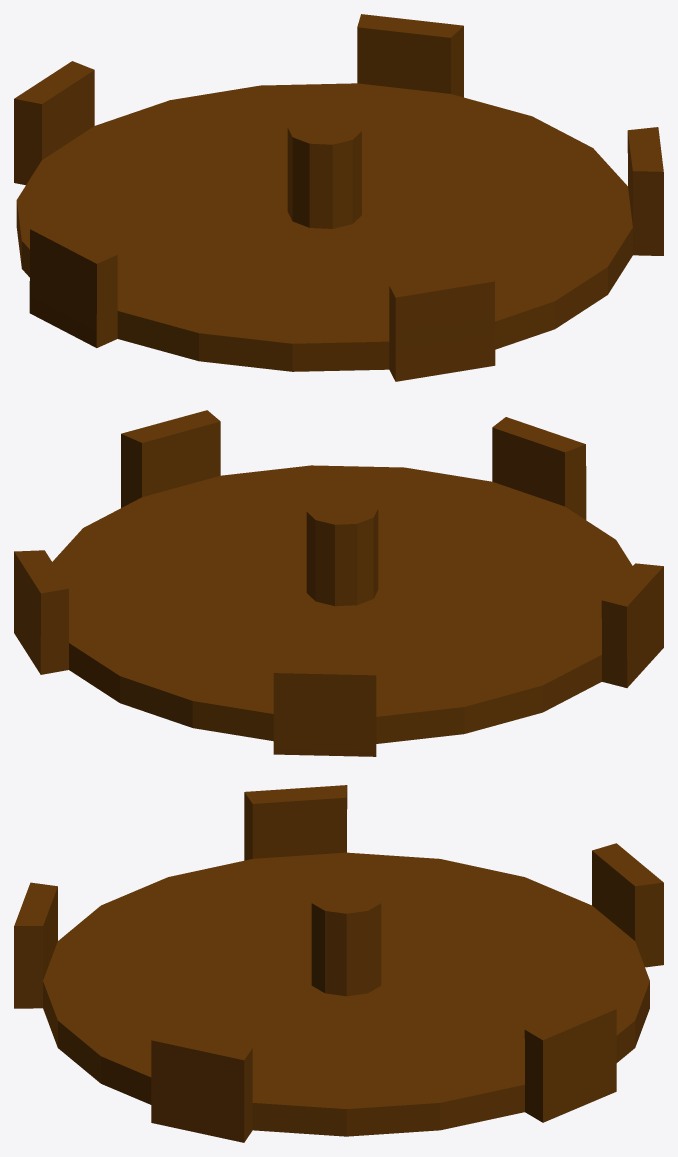
File: merry-go-round.fbx
The picture shows the model from 3 angles, top to bottom: view 1: azimuth 30°, elevation 25°; view 2: azimuth 150°, elevation 25°; view 3: azimuth 270°, elevation 25°; orthographic projection. The views are drawn at different scales.
Visible parts, largest first — view 1: polySurface1; view 2: polySurface1; view 3: polySurface1.
Boxes of the visible parts, x1,y1,x2,y2 form: polySurface1: (14,14,663,381); polySurface1: (14,410,663,756); polySurface1: (14,785,663,1142).
Bounding box in the file's own units: 42.95 × 9 × 42.83.
